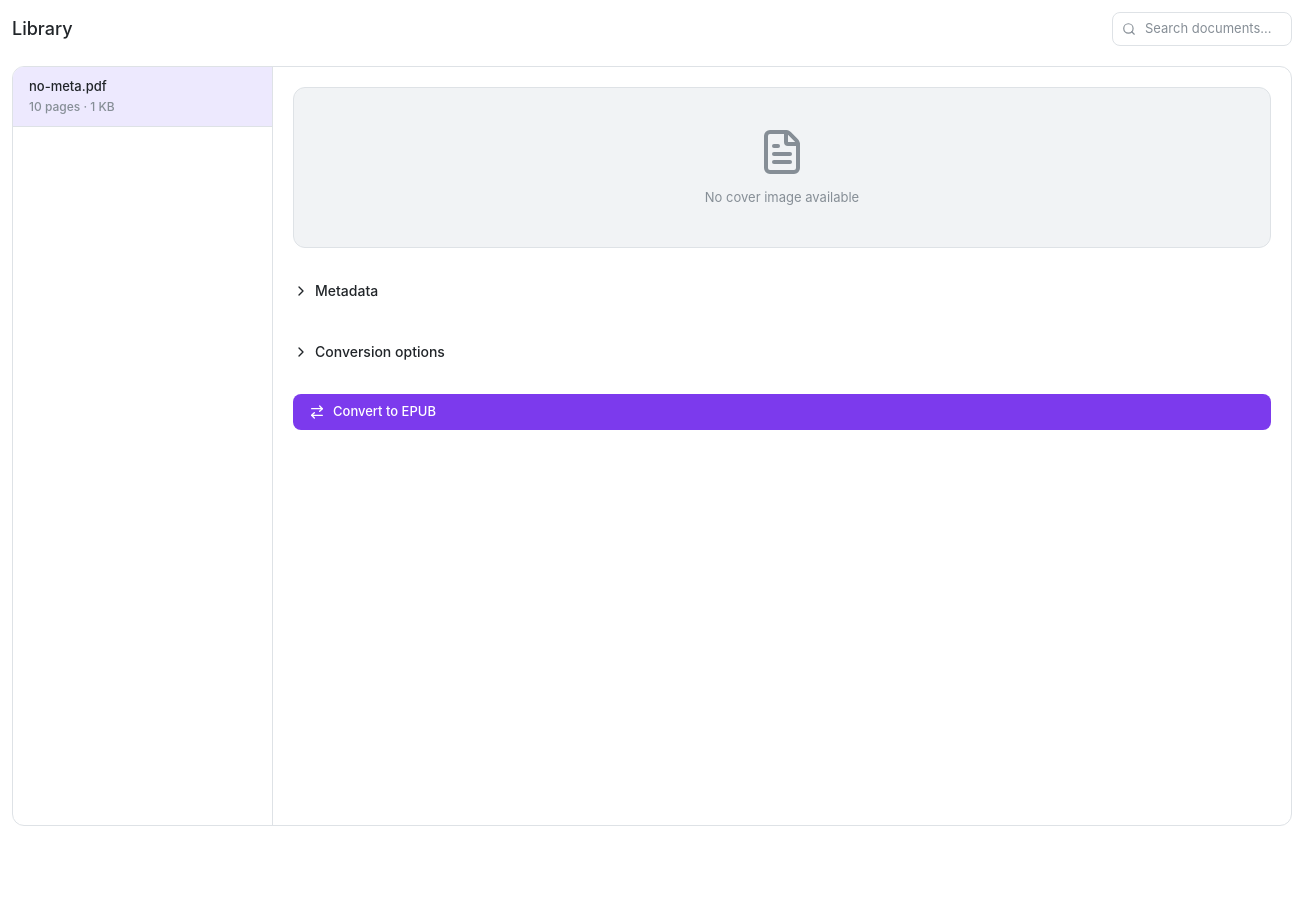
Test: LibraryScreen › hides metadata rows when values are absent
Click the button "Metadata".
click(347, 290)  # box [293,272,1271,309]
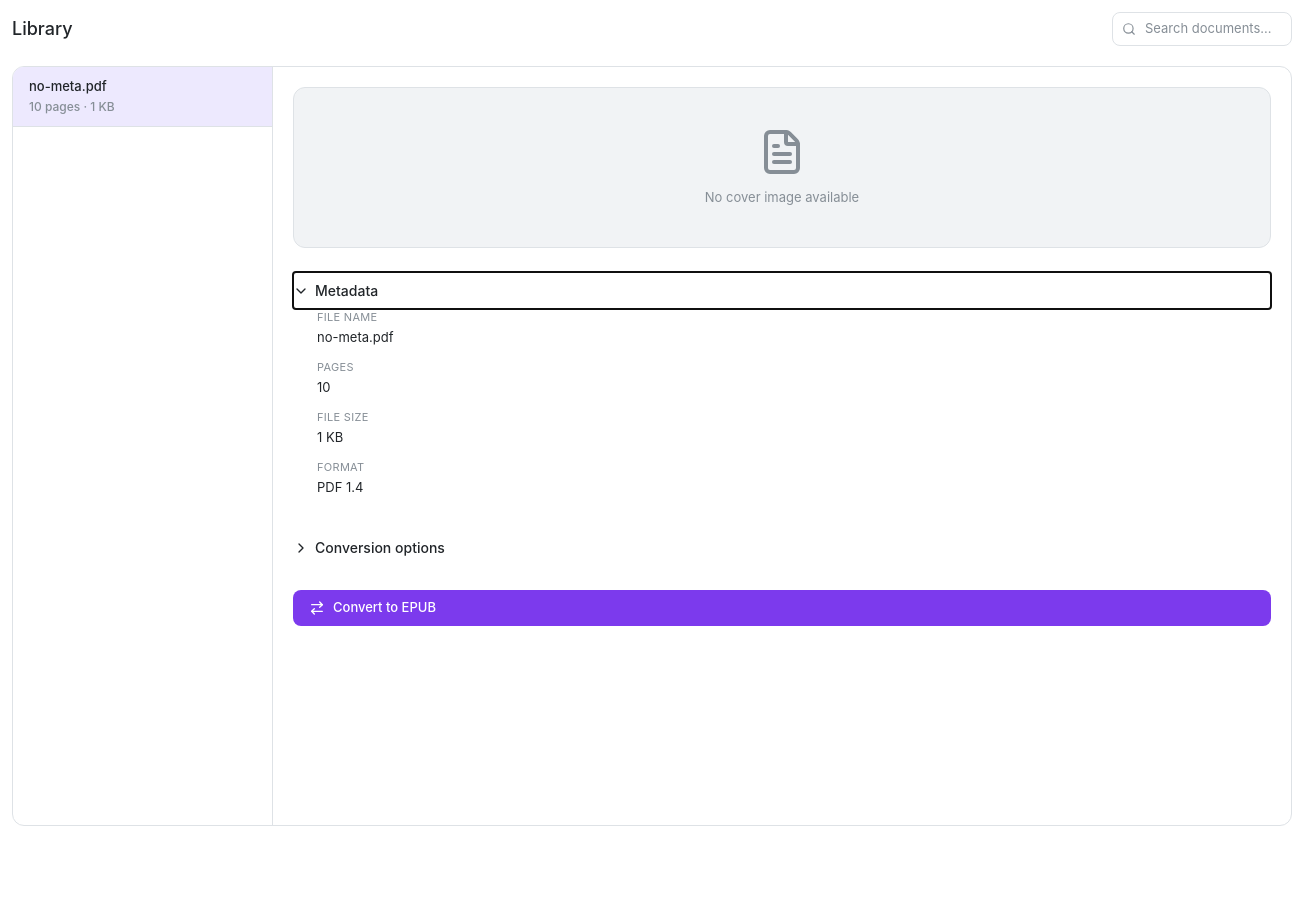
Now the text "10" is shown, box [317,378,330,394]
